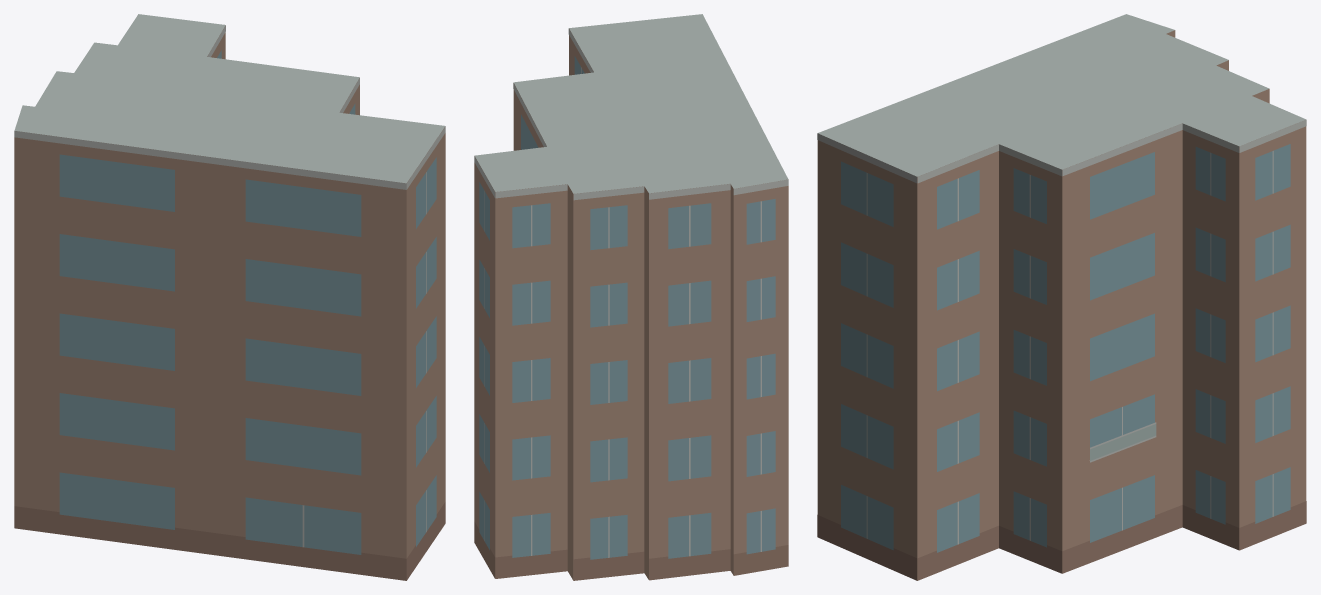
The model's file is survey-upis-32905160.glb.
3 renders of one model, left to right at view 1: azimuth 30°, elevation 25°; view 2: azimuth 150°, elevation 25°; view 3: azimuth 270°, elevation 25°, orthographic. The views are drawn at different scales.
Parts seen in each view (by area): view 1: survey-upis-32905160.tmp; view 2: survey-upis-32905160.tmp; view 3: survey-upis-32905160.tmp.
Part boxes in pixels (x1=…): survey-upis-32905160.tmp: x1=14, y1=14, x2=445, y2=580; survey-upis-32905160.tmp: x1=474, y1=14, x2=788, y2=580; survey-upis-32905160.tmp: x1=817, y1=14, x2=1306, y2=580.
Size of the model in its own units: 12.72 by 14.7 by 16.13.
